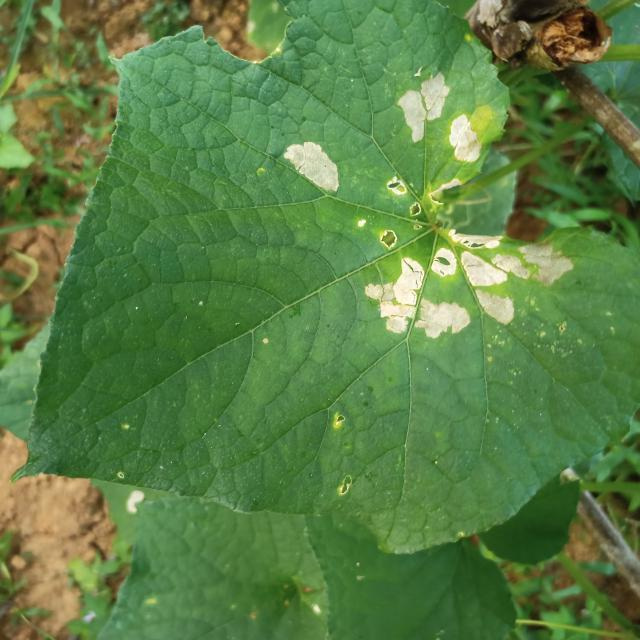disease_cucumber: (363, 228, 575, 339), (394, 69, 451, 146), (284, 140, 342, 194), (446, 110, 481, 166), (384, 173, 424, 219)
